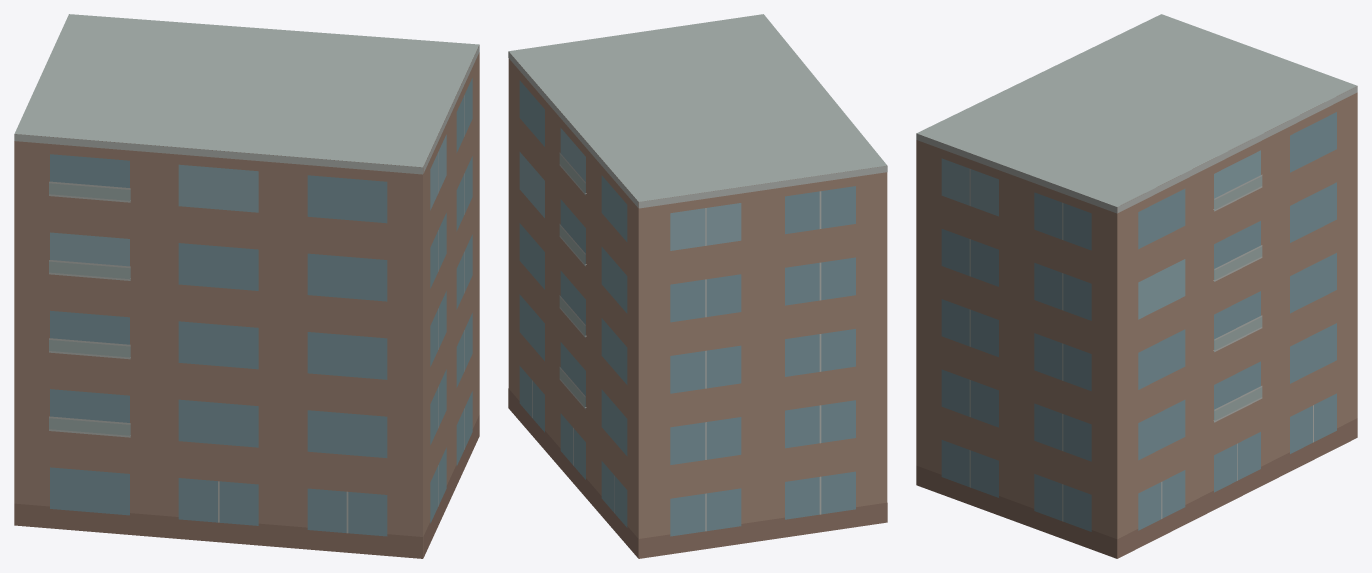
The model's file is survey-upis-32885831.glb.
3 views of the same model, side by side, from view 1: azimuth 30°, elevation 25°; view 2: azimuth 150°, elevation 25°; view 3: azimuth 270°, elevation 25° (orthographic). The views are drawn at different scales.
Visible parts, largest first — view 1: survey-upis-32885831.tmp; view 2: survey-upis-32885831.tmp; view 3: survey-upis-32885831.tmp.
Part boxes in pixels (bbox=[...]): survey-upis-32885831.tmp: bbox=[14, 14, 479, 558]; survey-upis-32885831.tmp: bbox=[508, 14, 887, 558]; survey-upis-32885831.tmp: bbox=[916, 14, 1357, 558].
Bounding box in the file's own units: 15.61 × 13.25 × 15.07.
